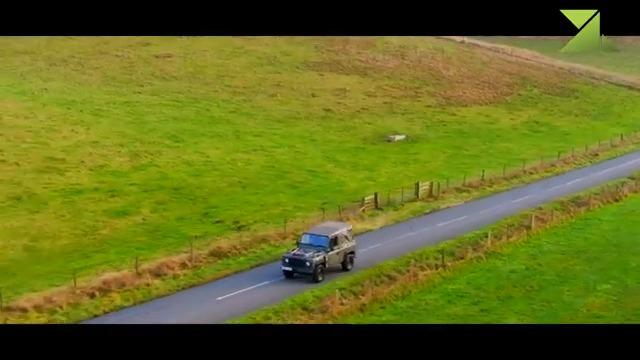MIL_HMMWV: (280, 221, 358, 283)
